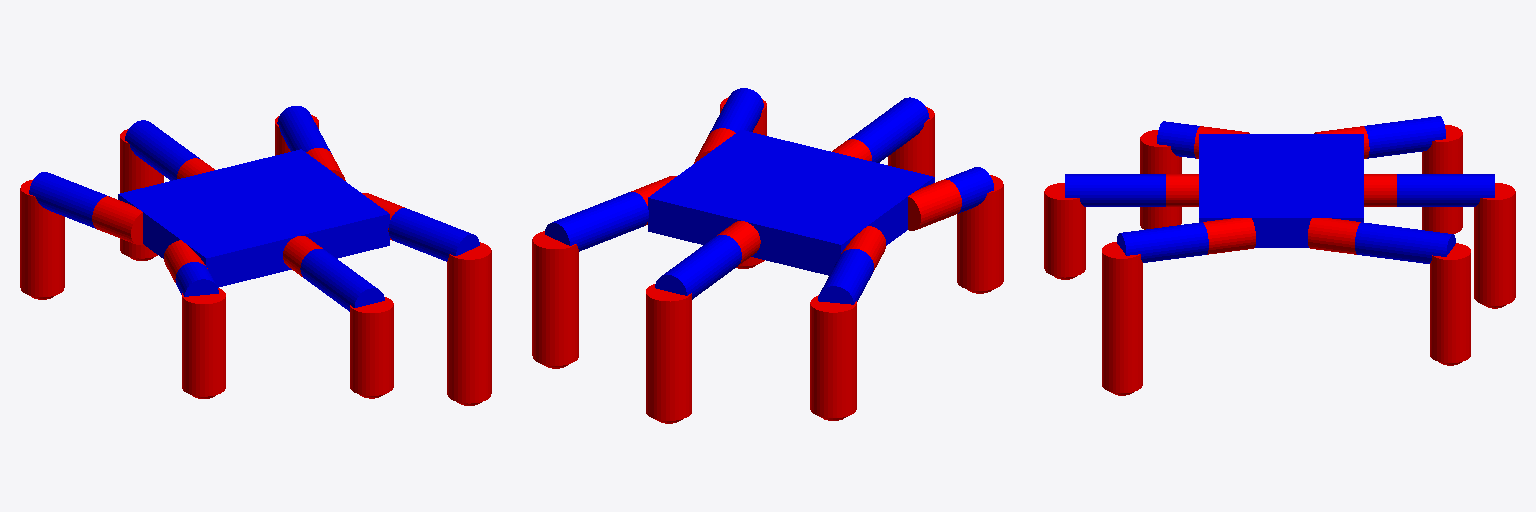
--- Render facts (derived) ---
3 views of the same robot in one strip: view 1: azimuth 30°, elevation 25°; view 2: azimuth 150°, elevation 25°; view 3: azimuth 270°, elevation 25° (orthographic).
Robot: pexod — 19 links, 18 joints (18 revolute); root link base_link; default pose: all joints at 0.
Visible links, largest first — view 1: base_link, leg_3_3, leg_5_3, leg_0_3, leg_4_3, leg_3_2, leg_4_2, leg_0_2, leg_1_2, leg_1_3, leg_0_1, leg_2_2 (+3 smaller); view 2: base_link, leg_1_3, leg_2_3, leg_0_3, leg_5_3, leg_2_2, leg_1_2, leg_4_2, leg_0_2, leg_5_1, leg_4_3, leg_3_2 (+3 smaller); view 3: base_link, leg_3_3, leg_1_3, leg_2_3, leg_4_3, leg_4_2, leg_1_2, leg_2_2, leg_3_2, leg_0_3, leg_0_2, leg_5_3 (+5 smaller).
Link boxes in pixels (x1,y1,x2,y2): base_link: (118,149,389,287); leg_3_3: (447,242,491,405); leg_5_3: (182,288,225,398); leg_0_3: (20,179,64,299); leg_4_3: (350,297,393,398); leg_3_2: (388,208,479,261); leg_4_2: (300,249,384,311); leg_0_2: (29,172,109,228); leg_1_2: (125,120,199,180); leg_1_3: (120,129,163,260); leg_0_1: (92,196,142,244); leg_2_2: (277,106,331,153); base_link: (648,130,934,275); leg_1_3: (646,284,691,423); leg_2_3: (532,231,578,368); leg_0_3: (810,295,856,420); leg_5_3: (957,175,1003,293); leg_2_2: (545,192,648,251); leg_1_2: (655,235,741,299); leg_4_2: (848,97,929,162); leg_0_2: (818,249,873,304); leg_5_1: (908,179,961,230); leg_4_3: (888,106,934,176); leg_3_2: (709,88,763,133); base_link: (1199,134,1363,247); leg_3_3: (1102,242,1142,395); leg_1_3: (1474,183,1515,308); leg_2_3: (1430,243,1470,365); leg_4_3: (1044,183,1085,279); leg_4_2: (1065,174,1165,206); leg_1_2: (1397,174,1494,206); leg_2_2: (1355,222,1455,263); leg_3_2: (1117,222,1208,262); leg_0_3: (1422,125,1462,233); leg_0_2: (1364,116,1445,158); leg_5_3: (1140,130,1181,229).
Size in the robot's own frame: 0.3883 by 0.5705 by 0.2123 metres.
Geometry: primitives only (box / cylinder / sphere), no mesh files.

robot.urdf — pexod:
<?xml version="1.0" ?>
<!-- =================================================================================== -->
<!-- |    This document was autogenerated by xacro from pexod.xacro                    | -->
<!-- |    EDITING THIS FILE BY HAND IS NOT RECOMMENDED                                 | -->
<!-- =================================================================================== -->
<robot name="pexod" xmlns:xacro="http://www.ros.org/wiki/xacro">
  <!-- <xacro:include filename="$(find pexod_description)/urdf/pexod_control.xacro" /> -->
  <!-- MATERIALS -->
  <material name="Blue">
    <color rgba="0 0 1 1"/>
  </material>
  <material name="Red">
    <color rgba="1 0 0 1"/>
  </material>
  <material name="Green">
    <color rgba="0 1 0 1"/>
  </material>
  <material name="Yellow">
    <color rgba="1 1 0 1"/>
  </material>
  <material name="LightGrey">
    <color rgba="0.6 0.6 0.6 1.0"/>
  </material>
  <!-- END OF MATERIALS -->
  <!-- XACRO MACROS FOR VISUALS AND COLLISIONS -->
  <!-- END OF XACRO MACROS -->
  <!-- TORSO -->
  <link name="base_link">
    <visual>
      <origin rpy="0 0 0" xyz="0 0 0"/>
      <geometry>
        <box size="0.24 0.2 0.04"/>
      </geometry>
      <material name="Blue"/>
    </visual>
    <collision>
      <origin rpy="0 0 0" xyz="0 0 0"/>
      <geometry>
        <box size="0.24 0.2 0.04"/>
      </geometry>
    </collision>
    <inertial>
      <!-- CENTER OF MASS -->
      <origin rpy="0 0 0" xyz="0 0 0"/>
      <mass value="1.031"/>
      <!-- box inertia: 1/12*m(y^2+z^2), ... -->
      <inertia ixx="0.00357413333333" ixy="0" ixz="0" iyy="0.00508626666667" iyz="0" izz="0.00838546666667"/>
    </inertial>
  </link>
  <!-- XACRO MACRO FOR LEGS LINKS/JOINTS -->
  <!-- END OF LEG LINKS/JOINTS -->
  <joint name="body_leg_2" type="revolute">
    <parent link="base_link"/>
    <child link="leg_2_1"/>
    <limit effort="30.0" lower="-1.57079632679" upper="1.57079632679" velocity="7.0"/>
    <origin rpy="0 0 -0.3" xyz="0.11 0.04 0"/>
    <!-- <xacro:if value="${index == 5 or index == 4 or index == 3}">
                <axis xyz="0 0 1"/>
            </xacro:if>
            <xacro:if value="${index == 2 or index == 1 or index == 0}"> -->
    <axis xyz="0 0 1"/>
    <!-- </xacro:if> -->
    <dynamics damping="0.0"/>
  </joint>
  <link name="leg_2_1">
    <visual>
      <origin rpy="1.57079632679 0 0" xyz="0.01 0.03 0"/>
      <geometry>
        <cylinder length="0.06" radius="0.02"/>
      </geometry>
      <material name="Red"/>
    </visual>
    <collision>
      <origin rpy="1.57079632679 0 0" xyz="0.01 0.03 0"/>
      <geometry>
        <box size="0.02 0.02 0.06"/>
      </geometry>
    </collision>
    <inertial>
      <!-- CENTER OF MASS -->
      <origin rpy="1.57079632679 0 0" xyz="0.01 0.03 0"/>
      <mass value="0.02"/>
      <!-- box inertia: 1/12*m(y^2+z^2), ... -->
      <inertia ixx="6.66666666667e-06" ixy="0" ixz="0" iyy="6.66666666667e-06" iyz="0" izz="1.33333333333e-06"/>
    </inertial>
  </link>
  <joint name="leg_2_1_2" type="revolute">
    <parent link="leg_2_1"/>
    <child link="leg_2_2"/>
    <limit effort="30.0" lower="-0.78539816339" upper="0.78539816339" velocity="7.0"/>
    <origin rpy="0 0 0" xyz="0 0.06 0"/>
    <axis xyz="1 0 0"/>
    <dynamics damping="0.0"/>
  </joint>
  <link name="leg_2_2">
    <visual>
      <origin rpy="1.57079632679 0 0" xyz="0.01 0.0578671784565 0"/>
      <geometry>
        <cylinder length="0.115734356913" radius="0.02"/>
      </geometry>
      <material name="Blue"/>
    </visual>
    <collision>
      <origin rpy="1.57079632679 0 0" xyz="0.01 0.0578671784565 0"/>
      <geometry>
        <box size="0.02 0.02 0.115734356913"/>
      </geometry>
    </collision>
    <inertial>
      <!-- CENTER OF MASS -->
      <origin rpy="1.57079632679 0 0" xyz="0.01 0.0578671784565 0"/>
      <mass value="0.184"/>
      <!-- box inertia: 1/12*m(y^2+z^2), ... -->
      <inertia ixx="0.000211514767674" ixy="0" ixz="0" iyy="0.000211514767674" iyz="0" izz="1.22666666667e-05"/>
    </inertial>
  </link>
  <joint name="leg_2_2_3" type="revolute">
    <parent link="leg_2_2"/>
    <child link="leg_2_3"/>
    <limit effort="30.0" lower="-0.78539816339" upper="0.78539816339" velocity="7.0"/>
    <origin rpy="-1.57079632679 0 0" xyz="0 0.115734356913 0"/>
    <axis xyz="-1 0 0"/>
    <dynamics damping="0.0"/>
  </joint>
  <link name="leg_2_3">
    <visual>
      <origin rpy="1.57079632679 0 0" xyz="0.0125 0.0690296485165 0"/>
      <geometry>
        <cylinder length="0.138059297033" radius="0.025"/>
      </geometry>
      <material name="Red"/>
    </visual>
    <visual>
      <origin rpy="1.57079632679 0 0" xyz="0.0125 0.125559297033 0"/>
      <geometry>
        <sphere radius="0.025"/>
      </geometry>
      <material name="Red"/>
    </visual>
    <collision>
      <origin rpy="1.57079632679 0 0" xyz="0.0125 0.0690296485165 0"/>
      <geometry>
        <box size="0.025 0.025 0.138059297033"/>
      </geometry>
    </collision>
    <collision>
      <origin rpy="1.57079632679 0 0" xyz="0.0125 0.125559297033 0"/>
      <geometry>
        <sphere radius="0.025"/>
      </geometry>
      <material name="Red"/>
    </collision>
    <inertial>
      <!-- CENTER OF MASS -->
      <origin rpy="1.57079632679 0 0" xyz="0.0125 0.0690296485165 0"/>
      <mass value="0.04"/>
      <!-- box inertia: 1/12*m(y^2+z^2), ... -->
      <inertia ixx="6.56178983242e-05" ixy="0" ixz="0" iyy="6.56178983242e-05" iyz="0" izz="4.16666666667e-06"/>
    </inertial>
  </link>
  <joint name="body_leg_3" type="revolute">
    <parent link="base_link"/>
    <child link="leg_3_1"/>
    <limit effort="30.0" lower="-1.57079632679" upper="1.57079632679" velocity="7.0"/>
    <origin rpy="0 0 0.3" xyz="0.11 -0.04 0"/>
    <!-- <xacro:if value="${index == 5 or index == 4 or index == 3}">
                <axis xyz="0 0 1"/>
            </xacro:if>
            <xacro:if value="${index == 2 or index == 1 or index == 0}"> -->
    <axis xyz="0 0 1"/>
    <!-- </xacro:if> -->
    <dynamics damping="0.0"/>
  </joint>
  <link name="leg_3_1">
    <visual>
      <origin rpy="1.57079632679 0 0" xyz="0.01 -0.03 0"/>
      <geometry>
        <cylinder length="0.06" radius="0.02"/>
      </geometry>
      <material name="Red"/>
    </visual>
    <collision>
      <origin rpy="1.57079632679 0 0" xyz="0.01 -0.03 0"/>
      <geometry>
        <box size="0.02 0.02 0.06"/>
      </geometry>
    </collision>
    <inertial>
      <!-- CENTER OF MASS -->
      <origin rpy="1.57079632679 0 0" xyz="0.01 -0.03 0"/>
      <mass value="0.02"/>
      <!-- box inertia: 1/12*m(y^2+z^2), ... -->
      <inertia ixx="6.66666666667e-06" ixy="0" ixz="0" iyy="6.66666666667e-06" iyz="0" izz="1.33333333333e-06"/>
    </inertial>
  </link>
  <joint name="leg_3_1_2" type="revolute">
    <parent link="leg_3_1"/>
    <child link="leg_3_2"/>
    <limit effort="30.0" lower="-0.78539816339" upper="0.78539816339" velocity="7.0"/>
    <origin rpy="0 0 0" xyz="0 -0.06 0"/>
    <axis xyz="-1 0 0"/>
    <dynamics damping="0.0"/>
  </joint>
  <link name="leg_3_2">
    <visual>
      <origin rpy="1.57079632679 0 0" xyz="0.01 -0.052164110122 0"/>
      <geometry>
        <cylinder length="0.104328220244" radius="0.02"/>
      </geometry>
      <material name="Blue"/>
    </visual>
    <collision>
      <origin rpy="1.57079632679 0 0" xyz="0.01 -0.052164110122 0"/>
      <geometry>
        <box size="0.02 0.02 0.104328220244"/>
      </geometry>
    </collision>
    <inertial>
      <!-- CENTER OF MASS -->
      <origin rpy="1.57079632679 0 0" xyz="0.01 -0.052164110122 0"/>
      <mass value="0.184"/>
      <!-- box inertia: 1/12*m(y^2+z^2), ... -->
      <inertia ixx="0.000173027122269" ixy="0" ixz="0" iyy="0.000173027122269" iyz="0" izz="1.22666666667e-05"/>
    </inertial>
  </link>
  <joint name="leg_3_2_3" type="revolute">
    <parent link="leg_3_2"/>
    <child link="leg_3_3"/>
    <limit effort="30.0" lower="-0.78539816339" upper="0.78539816339" velocity="7.0"/>
    <origin rpy="1.57079632679 0 0" xyz="0 -0.104328220244 0"/>
    <axis xyz="1 0 0"/>
    <dynamics damping="0.0"/>
  </joint>
  <link name="leg_3_3">
    <visual>
      <origin rpy="1.57079632679 0 0" xyz="0.0125 -0.089907099619 0"/>
      <geometry>
        <cylinder length="0.179814199238" radius="0.025"/>
      </geometry>
      <material name="Red"/>
    </visual>
    <visual>
      <origin rpy="1.57079632679 0 0" xyz="0.0125 -0.167314199238 0"/>
      <geometry>
        <sphere radius="0.025"/>
      </geometry>
      <material name="Red"/>
    </visual>
    <collision>
      <origin rpy="1.57079632679 0 0" xyz="0.0125 -0.089907099619 0"/>
      <geometry>
        <box size="0.025 0.025 0.179814199238"/>
      </geometry>
    </collision>
    <collision>
      <origin rpy="1.57079632679 0 0" xyz="0.0125 -0.167314199238 0"/>
      <geometry>
        <sphere radius="0.025"/>
      </geometry>
      <material name="Red"/>
    </collision>
    <inertial>
      <!-- CENTER OF MASS -->
      <origin rpy="1.57079632679 0 0" xyz="0.0125 -0.089907099619 0"/>
      <mass value="0.04"/>
      <!-- box inertia: 1/12*m(y^2+z^2), ... -->
      <inertia ixx="0.000109860487492" ixy="0" ixz="0" iyy="0.000109860487492" iyz="0" izz="4.16666666667e-06"/>
    </inertial>
  </link>
  <joint name="body_leg_0" type="revolute">
    <parent link="base_link"/>
    <child link="leg_0_1"/>
    <limit effort="30.0" lower="-1.57079632679" upper="1.57079632679" velocity="7.0"/>
    <origin rpy="0 0 0.3" xyz="-0.13 0.04 0"/>
    <!-- <xacro:if value="${index == 5 or index == 4 or index == 3}">
                <axis xyz="0 0 1"/>
            </xacro:if>
            <xacro:if value="${index == 2 or index == 1 or index == 0}"> -->
    <axis xyz="0 0 1"/>
    <!-- </xacro:if> -->
    <dynamics damping="0.0"/>
  </joint>
  <link name="leg_0_1">
    <visual>
      <origin rpy="1.57079632679 0 0" xyz="0.01 0.03 0"/>
      <geometry>
        <cylinder length="0.06" radius="0.02"/>
      </geometry>
      <material name="Red"/>
    </visual>
    <collision>
      <origin rpy="1.57079632679 0 0" xyz="0.01 0.03 0"/>
      <geometry>
        <box size="0.02 0.02 0.06"/>
      </geometry>
    </collision>
    <inertial>
      <!-- CENTER OF MASS -->
      <origin rpy="1.57079632679 0 0" xyz="0.01 0.03 0"/>
      <mass value="0.02"/>
      <!-- box inertia: 1/12*m(y^2+z^2), ... -->
      <inertia ixx="6.66666666667e-06" ixy="0" ixz="0" iyy="6.66666666667e-06" iyz="0" izz="1.33333333333e-06"/>
    </inertial>
  </link>
  <joint name="leg_0_1_2" type="revolute">
    <parent link="leg_0_1"/>
    <child link="leg_0_2"/>
    <limit effort="30.0" lower="-0.78539816339" upper="0.78539816339" velocity="7.0"/>
    <origin rpy="0 0 0" xyz="0 0.06 0"/>
    <axis xyz="1 0 0"/>
    <dynamics damping="0.0"/>
  </joint>
  <link name="leg_0_2">
    <visual>
      <origin rpy="1.57079632679 0 0" xyz="0.01 0.0487733037031 0"/>
      <geometry>
        <cylinder length="0.0975466074062" radius="0.02"/>
      </geometry>
      <material name="Blue"/>
    </visual>
    <collision>
      <origin rpy="1.57079632679 0 0" xyz="0.01 0.0487733037031 0"/>
      <geometry>
        <box size="0.02 0.02 0.0975466074062"/>
      </geometry>
    </collision>
    <inertial>
      <!-- CENTER OF MASS -->
      <origin rpy="1.57079632679 0 0" xyz="0.01 0.0487733037031 0"/>
      <mass value="0.184"/>
      <!-- box inertia: 1/12*m(y^2+z^2), ... -->
      <inertia ixx="0.000152035222786" ixy="0" ixz="0" iyy="0.000152035222786" iyz="0" izz="1.22666666667e-05"/>
    </inertial>
  </link>
  <joint name="leg_0_2_3" type="revolute">
    <parent link="leg_0_2"/>
    <child link="leg_0_3"/>
    <limit effort="30.0" lower="-0.78539816339" upper="0.78539816339" velocity="7.0"/>
    <origin rpy="-1.57079632679 0 0" xyz="0 0.0975466074062 0"/>
    <axis xyz="-1 0 0"/>
    <dynamics damping="0.0"/>
  </joint>
  <link name="leg_0_3">
    <visual>
      <origin rpy="1.57079632679 0 0" xyz="0.0125 0.062631928609 0"/>
      <geometry>
        <cylinder length="0.125263857218" radius="0.025"/>
      </geometry>
      <material name="Red"/>
    </visual>
    <visual>
      <origin rpy="1.57079632679 0 0" xyz="0.0125 0.112763857218 0"/>
      <geometry>
        <sphere radius="0.025"/>
      </geometry>
      <material name="Red"/>
    </visual>
    <collision>
      <origin rpy="1.57079632679 0 0" xyz="0.0125 0.062631928609 0"/>
      <geometry>
        <box size="0.025 0.025 0.125263857218"/>
      </geometry>
    </collision>
    <collision>
      <origin rpy="1.57079632679 0 0" xyz="0.0125 0.112763857218 0"/>
      <geometry>
        <sphere radius="0.025"/>
      </geometry>
      <material name="Red"/>
    </collision>
    <inertial>
      <!-- CENTER OF MASS -->
      <origin rpy="1.57079632679 0 0" xyz="0.0125 0.062631928609 0"/>
      <mass value="0.04"/>
      <!-- box inertia: 1/12*m(y^2+z^2), ... -->
      <inertia ixx="5.43867797504e-05" ixy="0" ixz="0" iyy="5.43867797504e-05" iyz="0" izz="4.16666666667e-06"/>
    </inertial>
  </link>
  <joint name="body_leg_5" type="revolute">
    <parent link="base_link"/>
    <child link="leg_5_1"/>
    <limit effort="30.0" lower="-1.57079632679" upper="1.57079632679" velocity="7.0"/>
    <origin rpy="0 0 -0.3" xyz="-0.13 -0.04 0"/>
    <!-- <xacro:if value="${index == 5 or index == 4 or index == 3}">
                <axis xyz="0 0 1"/>
            </xacro:if>
            <xacro:if value="${index == 2 or index == 1 or index == 0}"> -->
    <axis xyz="0 0 1"/>
    <!-- </xacro:if> -->
    <dynamics damping="0.0"/>
  </joint>
  <link name="leg_5_1">
    <visual>
      <origin rpy="1.57079632679 0 0" xyz="0.01 -0.03 0"/>
      <geometry>
        <cylinder length="0.06" radius="0.02"/>
      </geometry>
      <material name="Red"/>
    </visual>
    <collision>
      <origin rpy="1.57079632679 0 0" xyz="0.01 -0.03 0"/>
      <geometry>
        <box size="0.02 0.02 0.06"/>
      </geometry>
    </collision>
    <inertial>
      <!-- CENTER OF MASS -->
      <origin rpy="1.57079632679 0 0" xyz="0.01 -0.03 0"/>
      <mass value="0.02"/>
      <!-- box inertia: 1/12*m(y^2+z^2), ... -->
      <inertia ixx="6.66666666667e-06" ixy="0" ixz="0" iyy="6.66666666667e-06" iyz="0" izz="1.33333333333e-06"/>
    </inertial>
  </link>
  <joint name="leg_5_1_2" type="revolute">
    <parent link="leg_5_1"/>
    <child link="leg_5_2"/>
    <limit effort="30.0" lower="-0.78539816339" upper="0.78539816339" velocity="7.0"/>
    <origin rpy="0 0 0" xyz="0 -0.06 0"/>
    <axis xyz="-1 0 0"/>
    <dynamics damping="0.0"/>
  </joint>
  <link name="leg_5_2">
    <visual>
      <origin rpy="1.57079632679 0 0" xyz="0.01 -0.0237781274813 0"/>
      <geometry>
        <cylinder length="0.0475562549626" radius="0.02"/>
      </geometry>
      <material name="Blue"/>
    </visual>
    <collision>
      <origin rpy="1.57079632679 0 0" xyz="0.01 -0.0237781274813 0"/>
      <geometry>
        <box size="0.02 0.02 0.0475562549626"/>
      </geometry>
    </collision>
    <inertial>
      <!-- CENTER OF MASS -->
      <origin rpy="1.57079632679 0 0" xyz="0.01 -0.0237781274813 0"/>
      <mass value="0.184"/>
      <!-- box inertia: 1/12*m(y^2+z^2), ... -->
      <inertia ixx="4.08111599197e-05" ixy="0" ixz="0" iyy="4.08111599197e-05" iyz="0" izz="1.22666666667e-05"/>
    </inertial>
  </link>
  <joint name="leg_5_2_3" type="revolute">
    <parent link="leg_5_2"/>
    <child link="leg_5_3"/>
    <limit effort="30.0" lower="-0.78539816339" upper="0.78539816339" velocity="7.0"/>
    <origin rpy="1.57079632679 0 0" xyz="0 -0.0475562549626 0"/>
    <axis xyz="1 0 0"/>
    <dynamics damping="0.0"/>
  </joint>
  <link name="leg_5_3">
    <visual>
      <origin rpy="1.57079632679 0 0" xyz="0.0125 -0.05772022108 0"/>
      <geometry>
        <cylinder length="0.11544044216" radius="0.025"/>
      </geometry>
      <material name="Red"/>
    </visual>
    <visual>
      <origin rpy="1.57079632679 0 0" xyz="0.0125 -0.10294044216 0"/>
      <geometry>
        <sphere radius="0.025"/>
      </geometry>
      <material name="Red"/>
    </visual>
    <collision>
      <origin rpy="1.57079632679 0 0" xyz="0.0125 -0.05772022108 0"/>
      <geometry>
        <box size="0.025 0.025 0.11544044216"/>
      </geometry>
    </collision>
    <collision>
      <origin rpy="1.57079632679 0 0" xyz="0.0125 -0.10294044216 0"/>
      <geometry>
        <sphere radius="0.025"/>
      </geometry>
      <material name="Red"/>
    </collision>
    <inertial>
      <!-- CENTER OF MASS -->
      <origin rpy="1.57079632679 0 0" xyz="0.0125 -0.05772022108 0"/>
      <mass value="0.04"/>
      <!-- box inertia: 1/12*m(y^2+z^2), ... -->
      <inertia ixx="4.65049856203e-05" ixy="0" ixz="0" iyy="4.65049856203e-05" iyz="0" izz="4.16666666667e-06"/>
    </inertial>
  </link>
  <joint name="body_leg_1" type="revolute">
    <parent link="base_link"/>
    <child link="leg_1_1"/>
    <limit effort="30.0" lower="-1.57079632679" upper="1.57079632679" velocity="7.0"/>
    <origin rpy="0 0 0" xyz="-0.01 0.08 0"/>
    <!-- <xacro:if value="${index == 5 or index == 4 or index == 3}">
                <axis xyz="0 0 1"/>
            </xacro:if>
            <xacro:if value="${index == 2 or index == 1 or index == 0}"> -->
    <axis xyz="0 0 1"/>
    <!-- </xacro:if> -->
    <dynamics damping="0.0"/>
  </joint>
  <link name="leg_1_1">
    <visual>
      <origin rpy="1.57079632679 0 0" xyz="0.01 0.03 0"/>
      <geometry>
        <cylinder length="0.06" radius="0.02"/>
      </geometry>
      <material name="Red"/>
    </visual>
    <collision>
      <origin rpy="1.57079632679 0 0" xyz="0.01 0.03 0"/>
      <geometry>
        <box size="0.02 0.02 0.06"/>
      </geometry>
    </collision>
    <inertial>
      <!-- CENTER OF MASS -->
      <origin rpy="1.57079632679 0 0" xyz="0.01 0.03 0"/>
      <mass value="0.02"/>
      <!-- box inertia: 1/12*m(y^2+z^2), ... -->
      <inertia ixx="6.66666666667e-06" ixy="0" ixz="0" iyy="6.66666666667e-06" iyz="0" izz="1.33333333333e-06"/>
    </inertial>
  </link>
  <joint name="leg_1_1_2" type="revolute">
    <parent link="leg_1_1"/>
    <child link="leg_1_2"/>
    <limit effort="30.0" lower="-0.78539816339" upper="0.78539816339" velocity="7.0"/>
    <origin rpy="0 0 0" xyz="0 0.06 0"/>
    <axis xyz="1 0 0"/>
    <dynamics damping="0.0"/>
  </joint>
  <link name="leg_1_2">
    <visual>
      <origin rpy="1.57079632679 0 0" xyz="0.01 0.058981359036 0"/>
      <geometry>
        <cylinder length="0.117962718072" radius="0.02"/>
      </geometry>
      <material name="Blue"/>
    </visual>
    <collision>
      <origin rpy="1.57079632679 0 0" xyz="0.01 0.058981359036 0"/>
      <geometry>
        <box size="0.02 0.02 0.117962718072"/>
      </geometry>
    </collision>
    <inertial>
      <!-- CENTER OF MASS -->
      <origin rpy="1.57079632679 0 0" xyz="0.01 0.058981359036 0"/>
      <mass value="0.184"/>
      <!-- box inertia: 1/12*m(y^2+z^2), ... -->
      <inertia ixx="0.000219499777109" ixy="0" ixz="0" iyy="0.000219499777109" iyz="0" izz="1.22666666667e-05"/>
    </inertial>
  </link>
  <joint name="leg_1_2_3" type="revolute">
    <parent link="leg_1_2"/>
    <child link="leg_1_3"/>
    <limit effort="30.0" lower="-0.78539816339" upper="0.78539816339" velocity="7.0"/>
    <origin rpy="-1.57079632679 0 0" xyz="0 0.117962718072 0"/>
    <axis xyz="-1 0 0"/>
    <dynamics damping="0.0"/>
  </joint>
  <link name="leg_1_3">
    <visual>
      <origin rpy="1.57079632679 0 0" xyz="0.0125 0.0707893852705 0"/>
      <geometry>
        <cylinder length="0.141578770541" radius="0.025"/>
      </geometry>
      <material name="Red"/>
    </visual>
    <visual>
      <origin rpy="1.57079632679 0 0" xyz="0.0125 0.129078770541 0"/>
      <geometry>
        <sphere radius="0.025"/>
      </geometry>
      <material name="Red"/>
    </visual>
    <collision>
      <origin rpy="1.57079632679 0 0" xyz="0.0125 0.0707893852705 0"/>
      <geometry>
        <box size="0.025 0.025 0.141578770541"/>
      </geometry>
    </collision>
    <collision>
      <origin rpy="1.57079632679 0 0" xyz="0.0125 0.129078770541 0"/>
      <geometry>
        <sphere radius="0.025"/>
      </geometry>
      <material name="Red"/>
    </collision>
    <inertial>
      <!-- CENTER OF MASS -->
      <origin rpy="1.57079632679 0 0" xyz="0.0125 0.0707893852705 0"/>
      <mass value="0.04"/>
      <!-- box inertia: 1/12*m(y^2+z^2), ... -->
      <inertia ixx="6.88984942263e-05" ixy="0" ixz="0" iyy="6.88984942263e-05" iyz="0" izz="4.16666666667e-06"/>
    </inertial>
  </link>
  <joint name="body_leg_4" type="revolute">
    <parent link="base_link"/>
    <child link="leg_4_1"/>
    <limit effort="30.0" lower="-1.57079632679" upper="1.57079632679" velocity="7.0"/>
    <origin rpy="0 0 0" xyz="-0.01 -0.08 0"/>
    <!-- <xacro:if value="${index == 5 or index == 4 or index == 3}">
                <axis xyz="0 0 1"/>
            </xacro:if>
            <xacro:if value="${index == 2 or index == 1 or index == 0}"> -->
    <axis xyz="0 0 1"/>
    <!-- </xacro:if> -->
    <dynamics damping="0.0"/>
  </joint>
  <link name="leg_4_1">
    <visual>
      <origin rpy="1.57079632679 0 0" xyz="0.01 -0.03 0"/>
      <geometry>
        <cylinder length="0.06" radius="0.02"/>
      </geometry>
      <material name="Red"/>
    </visual>
    <collision>
      <origin rpy="1.57079632679 0 0" xyz="0.01 -0.03 0"/>
      <geometry>
        <box size="0.02 0.02 0.06"/>
      </geometry>
    </collision>
    <inertial>
      <!-- CENTER OF MASS -->
      <origin rpy="1.57079632679 0 0" xyz="0.01 -0.03 0"/>
      <mass value="0.02"/>
      <!-- box inertia: 1/12*m(y^2+z^2), ... -->
      <inertia ixx="6.66666666667e-06" ixy="0" ixz="0" iyy="6.66666666667e-06" iyz="0" izz="1.33333333333e-06"/>
    </inertial>
  </link>
  <joint name="leg_4_1_2" type="revolute">
    <parent link="leg_4_1"/>
    <child link="leg_4_2"/>
    <limit effort="30.0" lower="-0.78539816339" upper="0.78539816339" velocity="7.0"/>
    <origin rpy="0 0 0" xyz="0 -0.06 0"/>
    <axis xyz="-1 0 0"/>
    <dynamics damping="0.0"/>
  </joint>
  <link name="leg_4_2">
    <visual>
      <origin rpy="1.57079632679 0 0" xyz="0.01 -0.061247389135 0"/>
      <geometry>
        <cylinder length="0.12249477827" radius="0.02"/>
      </geometry>
      <material name="Blue"/>
    </visual>
    <collision>
      <origin rpy="1.57079632679 0 0" xyz="0.01 -0.061247389135 0"/>
      <geometry>
        <box size="0.02 0.02 0.12249477827"/>
      </geometry>
    </collision>
    <inertial>
      <!-- CENTER OF MASS -->
      <origin rpy="1.57079632679 0 0" xyz="0.01 -0.061247389135 0"/>
      <mass value="0.184"/>
      <!-- box inertia: 1/12*m(y^2+z^2), ... -->
      <inertia ixx="0.000236209550786" ixy="0" ixz="0" iyy="0.000236209550786" iyz="0" izz="1.22666666667e-05"/>
    </inertial>
  </link>
  <joint name="leg_4_2_3" type="revolute">
    <parent link="leg_4_2"/>
    <child link="leg_4_3"/>
    <limit effort="30.0" lower="-0.78539816339" upper="0.78539816339" velocity="7.0"/>
    <origin rpy="1.57079632679 0 0" xyz="0 -0.12249477827 0"/>
    <axis xyz="1 0 0"/>
    <dynamics damping="0.0"/>
  </joint>
  <link name="leg_4_3">
    <visual>
      <origin rpy="1.57079632679 0 0" xyz="0.0125 -0.0516258646965 0"/>
      <geometry>
        <cylinder length="0.103251729393" radius="0.025"/>
      </geometry>
      <material name="Red"/>
    </visual>
    <visual>
      <origin rpy="1.57079632679 0 0" xyz="0.0125 -0.090751729393 0"/>
      <geometry>
        <sphere radius="0.025"/>
      </geometry>
      <material name="Red"/>
    </visual>
    <collision>
      <origin rpy="1.57079632679 0 0" xyz="0.0125 -0.0516258646965 0"/>
      <geometry>
        <box size="0.025 0.025 0.103251729393"/>
      </geometry>
    </collision>
    <collision>
      <origin rpy="1.57079632679 0 0" xyz="0.0125 -0.090751729393 0"/>
      <geometry>
        <sphere radius="0.025"/>
      </geometry>
      <material name="Red"/>
    </collision>
    <inertial>
      <!-- CENTER OF MASS -->
      <origin rpy="1.57079632679 0 0" xyz="0.0125 -0.0516258646965 0"/>
      <mass value="0.04"/>
      <!-- box inertia: 1/12*m(y^2+z^2), ... -->
      <inertia ixx="3.76197320755e-05" ixy="0" ixz="0" iyy="3.76197320755e-05" iyz="0" izz="4.16666666667e-06"/>
    </inertial>
  </link>
  <!-- END OF LEG LINKS/JOINTS -->
</robot>
